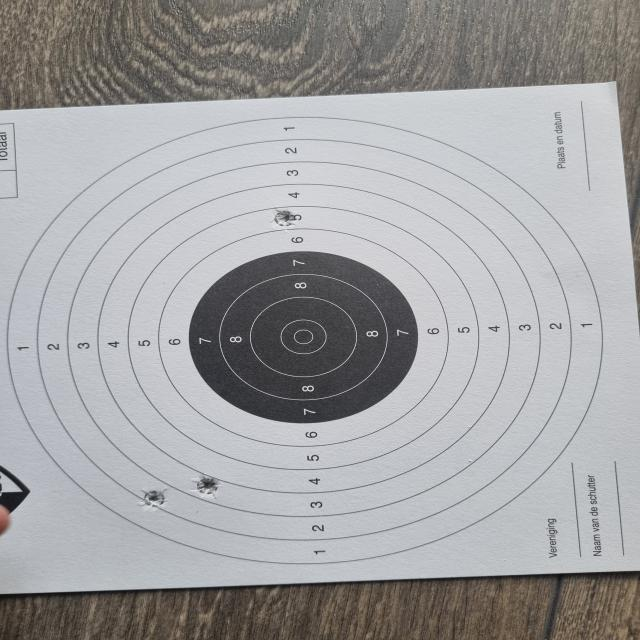2: (138, 486, 171, 509)
3: (192, 477, 225, 498)
5: (270, 209, 297, 227)
Target: (0, 114, 607, 566)
black_contour: (189, 252, 420, 422)
